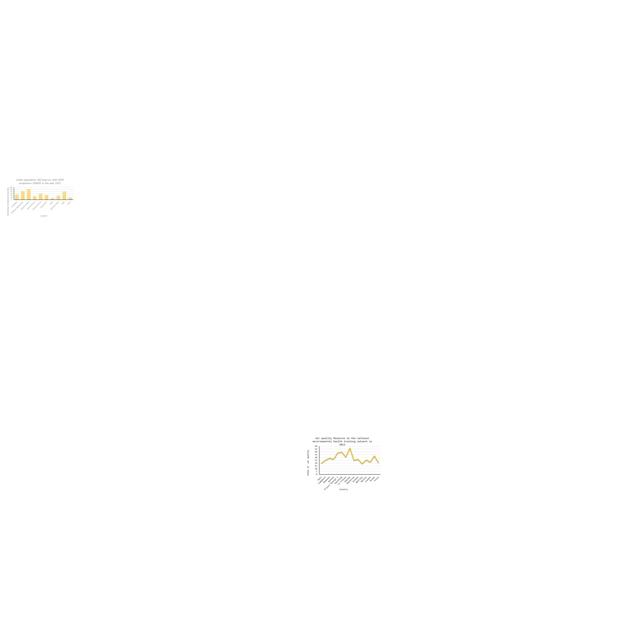Graph: (303, 436, 382, 492), (6, 178, 74, 218)
